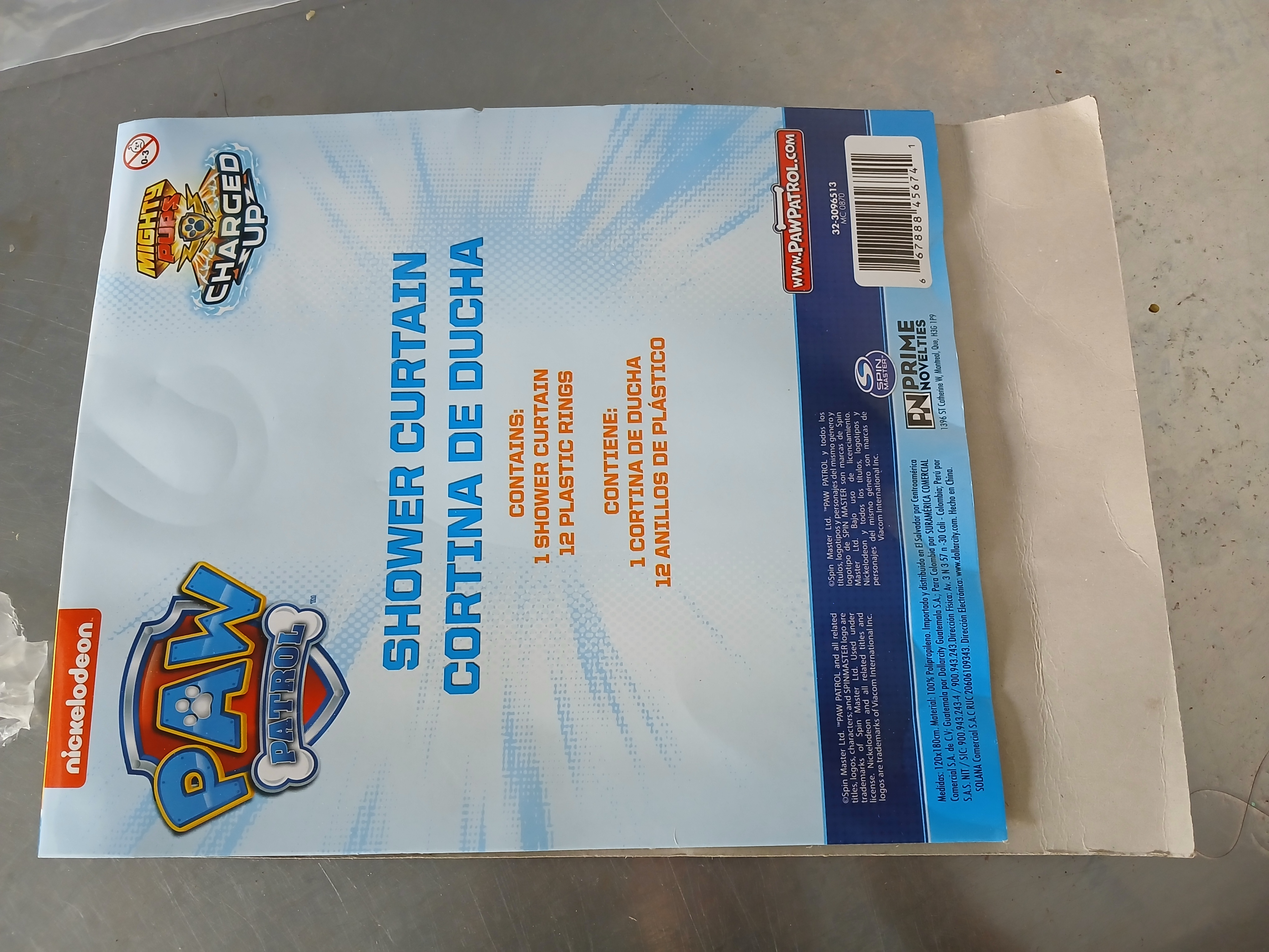Carton: (32, 94, 1195, 860)
